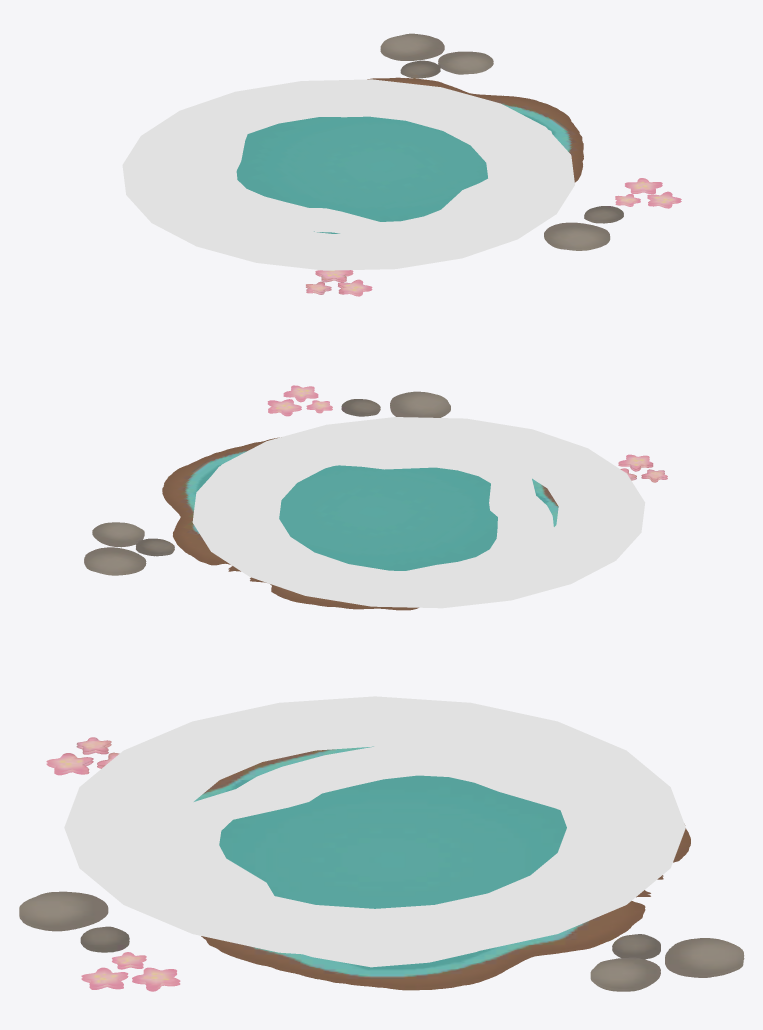
File: WaterSpringModel_a.fbx
3 views of the same model, one above another, from view 1: azimuth 30°, elevation 25°; view 2: azimuth 150°, elevation 25°; view 3: azimuth 270°, elevation 25° (orthographic). The views are drawn at different scales.
Parts seen in each view (by area): view 1: vfx_mesh_pond_water_foam_00, pPlane1, vfx_mesh_water_pond_00, pPlane1 (1); view 2: vfx_mesh_pond_water_foam_00, pPlane1, vfx_mesh_water_pond_00, pPlane1 (1); view 3: vfx_mesh_pond_water_foam_00, pPlane1, vfx_mesh_water_pond_00, pPlane1 (1).
Boxes of the visible parts, x1,y1,x2,y2 form: vfx_mesh_pond_water_foam_00: [122, 79, 574, 270]; pPlane1: [236, 33, 681, 294]; vfx_mesh_water_pond_00: [209, 116, 551, 233]; pPlane1 (1): [306, 48, 681, 296]; vfx_mesh_pond_water_foam_00: [192, 417, 645, 608]; pPlane1: [84, 385, 667, 608]; vfx_mesh_water_pond_00: [213, 453, 553, 571]; pPlane1 (1): [84, 389, 667, 610]; vfx_mesh_pond_water_foam_00: [64, 696, 685, 958]; pPlane1: [19, 737, 744, 988]; vfx_mesh_water_pond_00: [183, 746, 560, 967]; pPlane1 (1): [19, 743, 744, 991].
Bounding box in the file's own units: 2.18 × 0.03 × 2.18.
